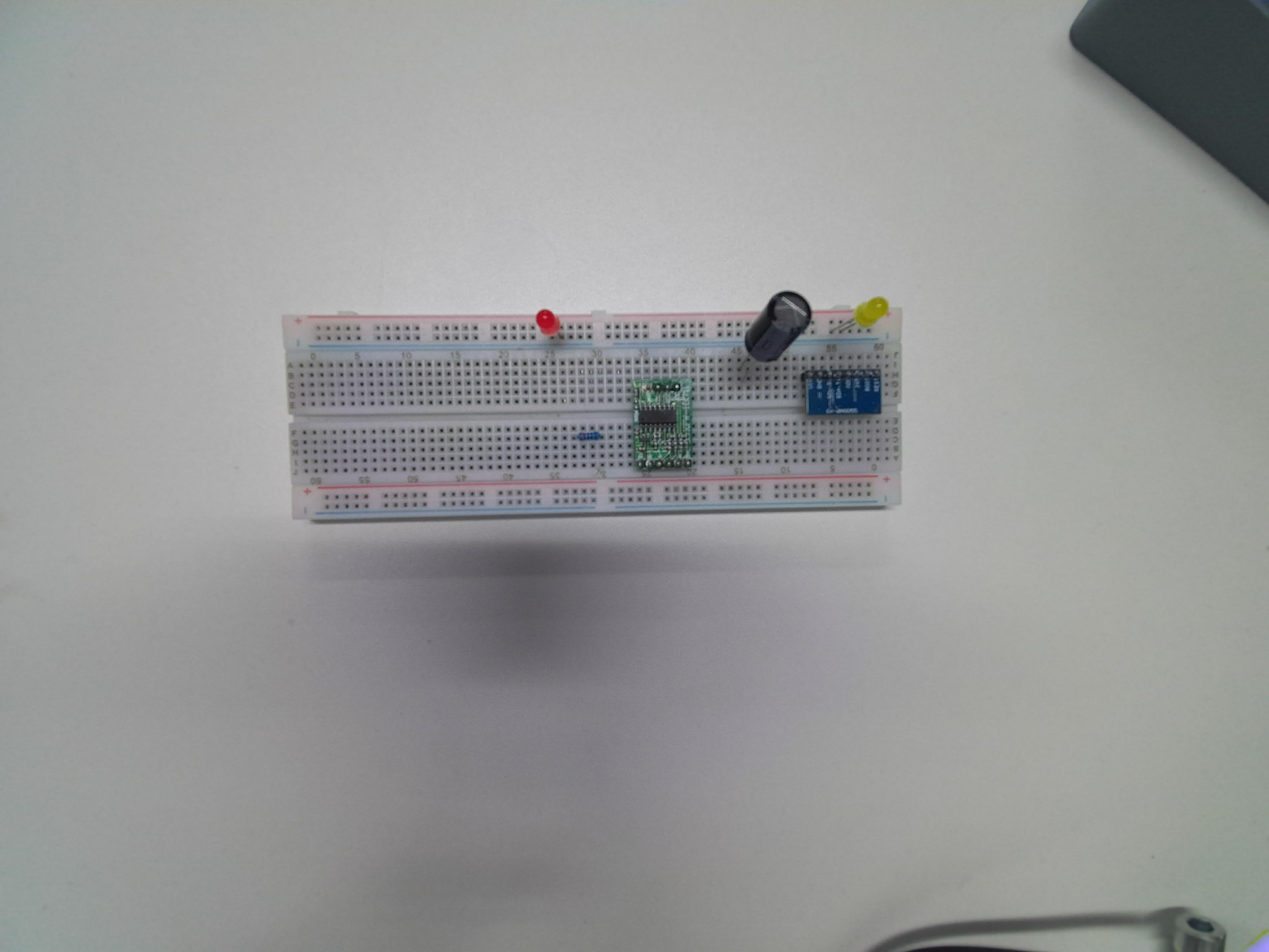base: (281, 300, 903, 525)
blue-board: (802, 364, 882, 418)
capacitor: (740, 287, 814, 367)
green-board: (623, 372, 700, 473)
red-led: (536, 309, 561, 337)
resistor-small: (573, 431, 603, 442)
yellow-led: (854, 297, 889, 329)
